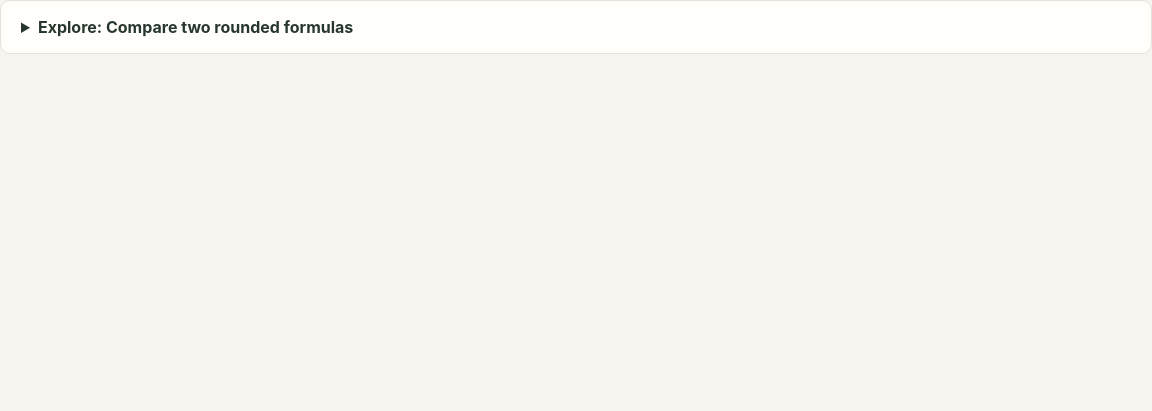
preserves a small result through rationalization after rounded subtraction loses it
Click the heading "Explore: Compare two rounded formulas" at (196, 27), box [38, 17, 353, 37]
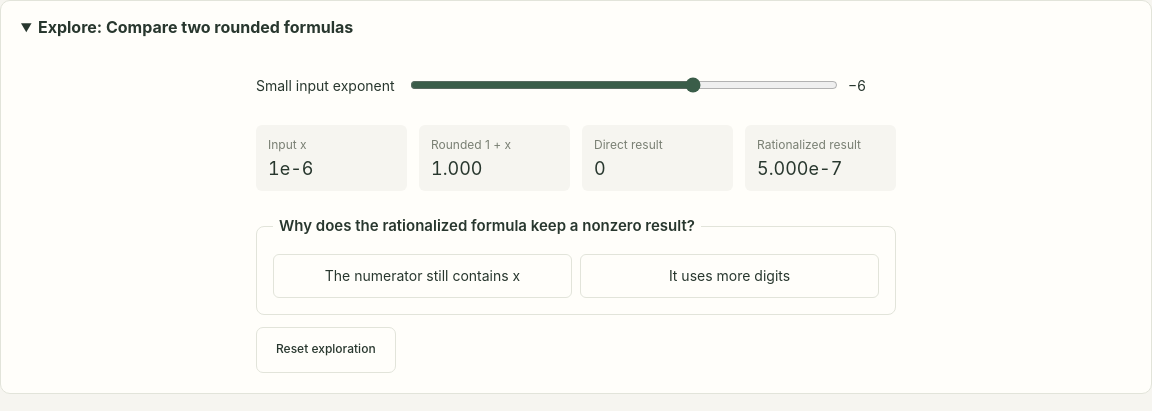
Result: the text "5.000e-7" is shown at [757, 158, 842, 179]
Set the slider labelled "Small input exponent" to "2" at (418, 85), box [410, 63, 838, 107]
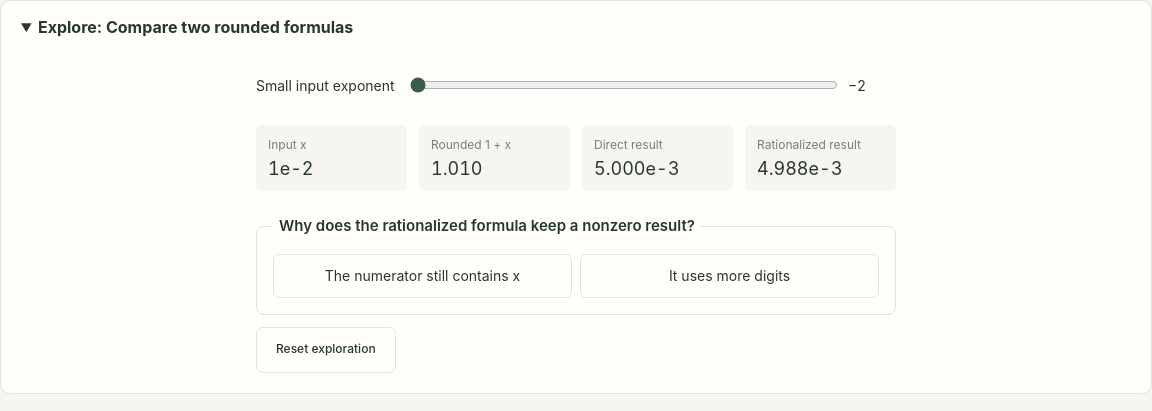
Result: the text "5.000e-3" is shown at [594, 158, 679, 179]
